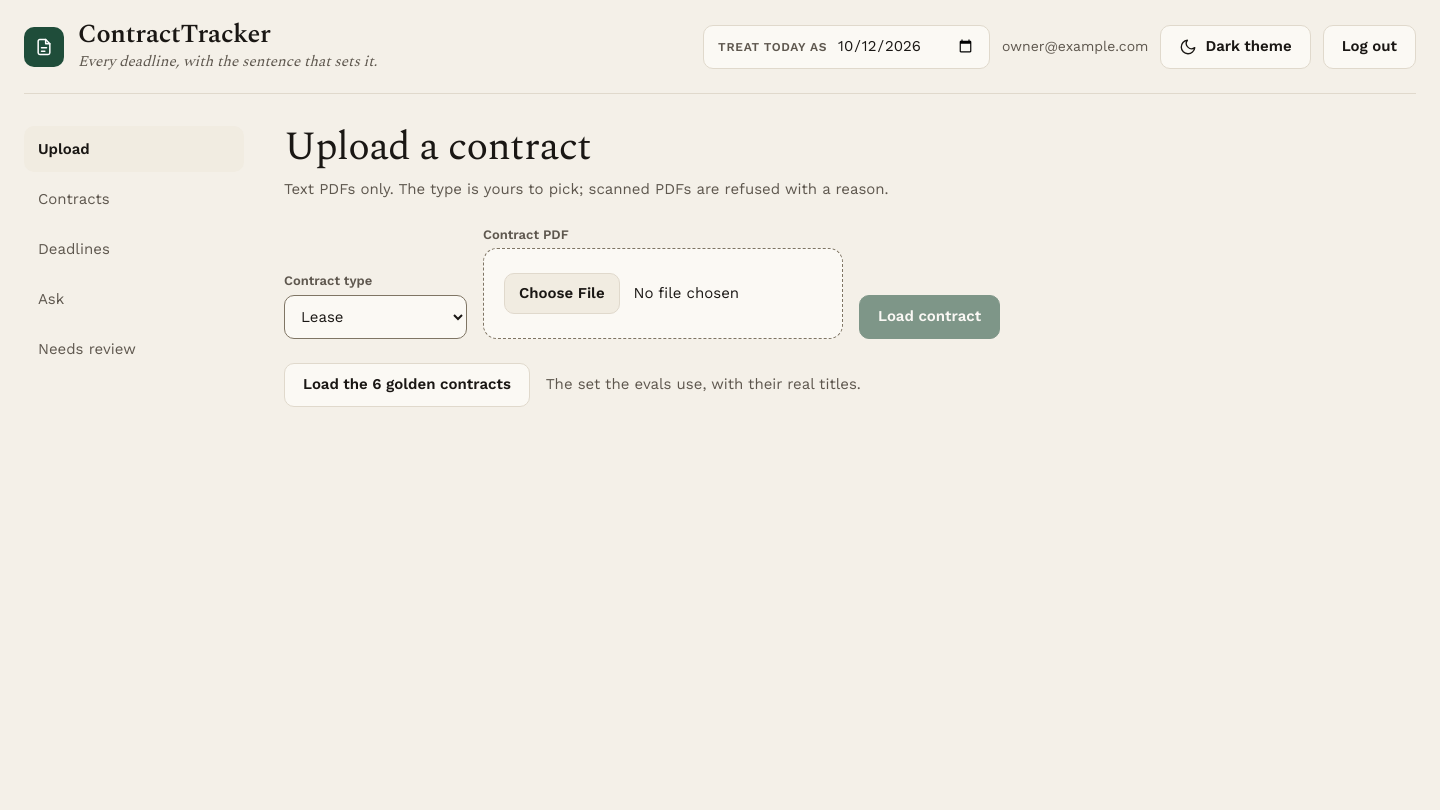
Scenario: the session › TC-0207: Log out still returns to the login page when the server cannot be reached
This screenshot has width=1440, height=810.
Click the button "Log out": (1369, 46) [1323,24,1416,68]
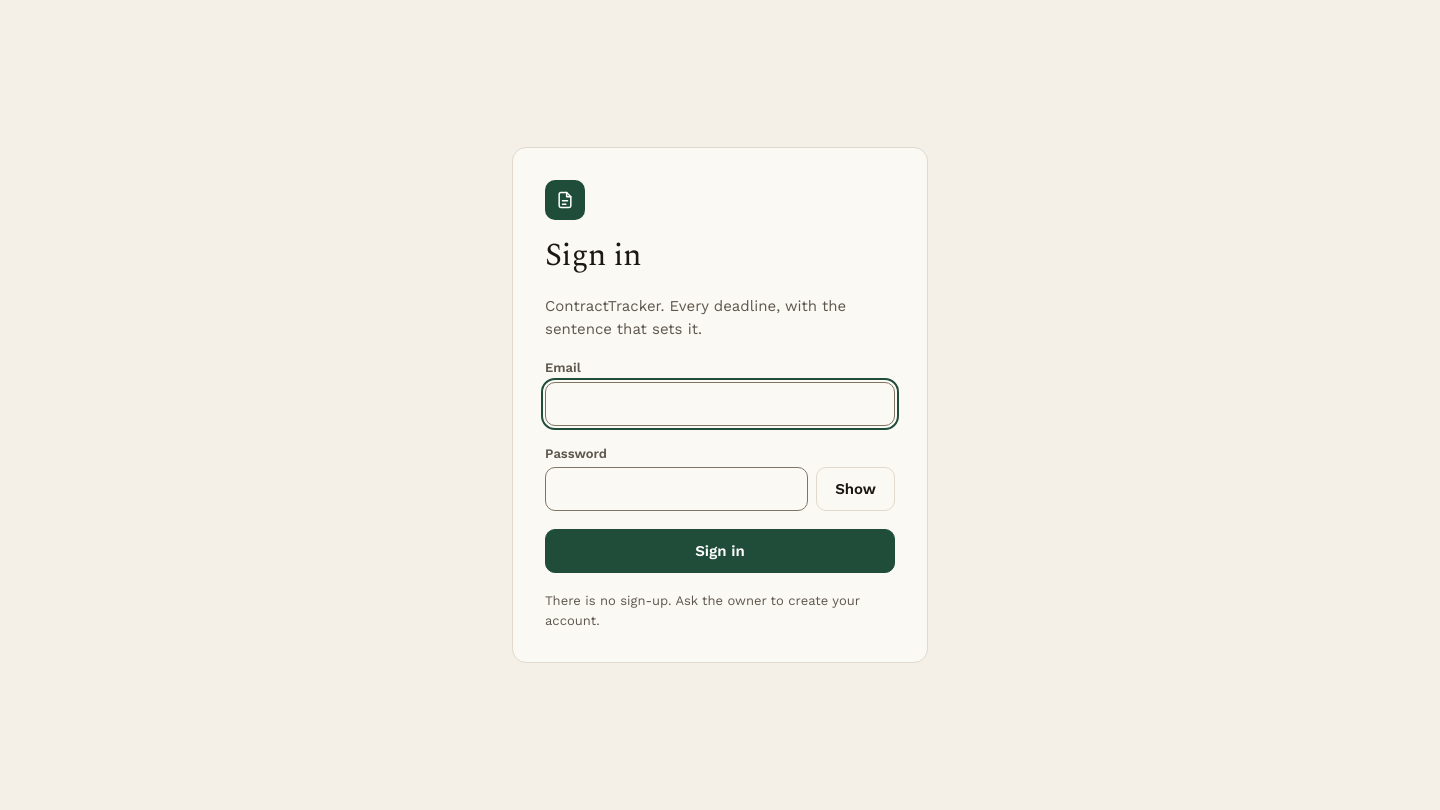
Expected: the heading "Sign in" is shown, [545,231,641,280]
